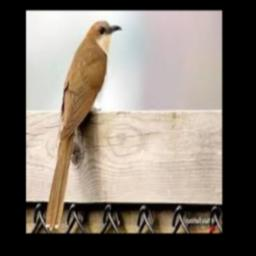Cuckoo: (46, 21, 123, 229)
